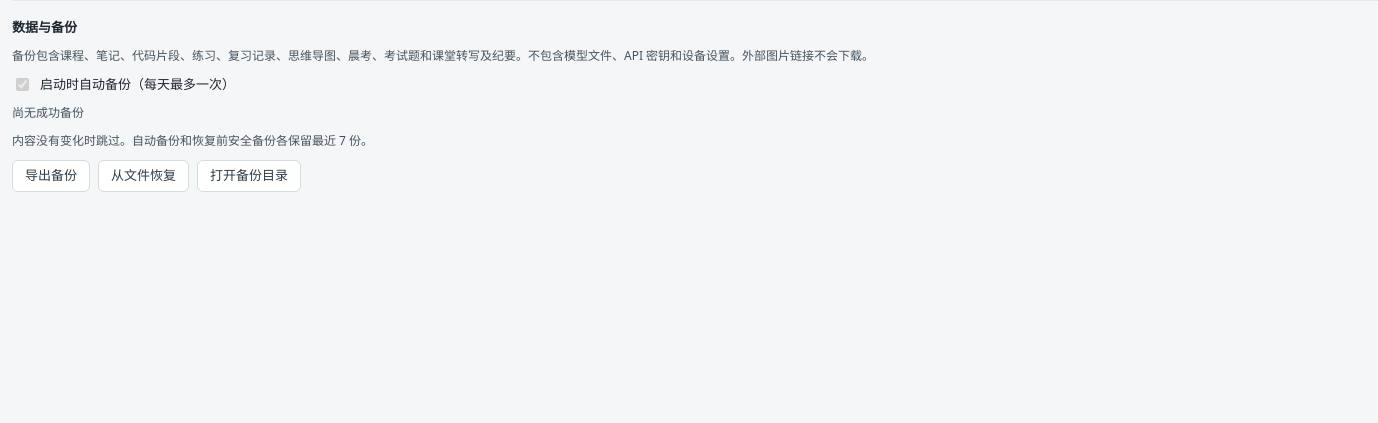
Scenario: previews before restoring and preserves errors for retry
Expected: the text "尚无成功备份" is shown, [12,104,84,121]
Click the button "从文件恢复".
click(144, 176)  # box [98,160,189,192]
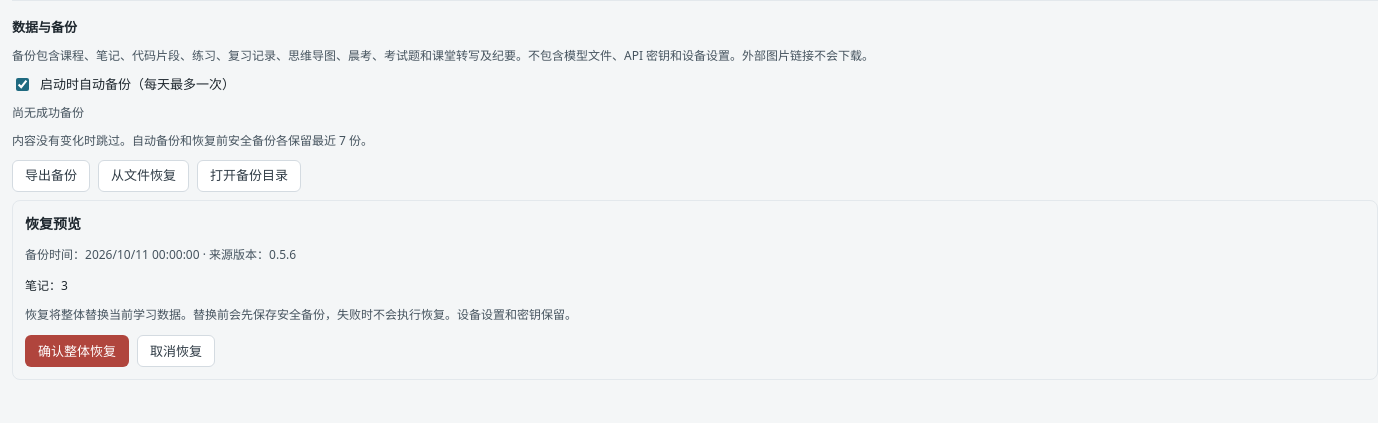
Result: the text "笔记：3" is shown at [25,276,68,295]
Click the button "确认整体恢复".
click(77, 351)  # box [25,335,129,367]
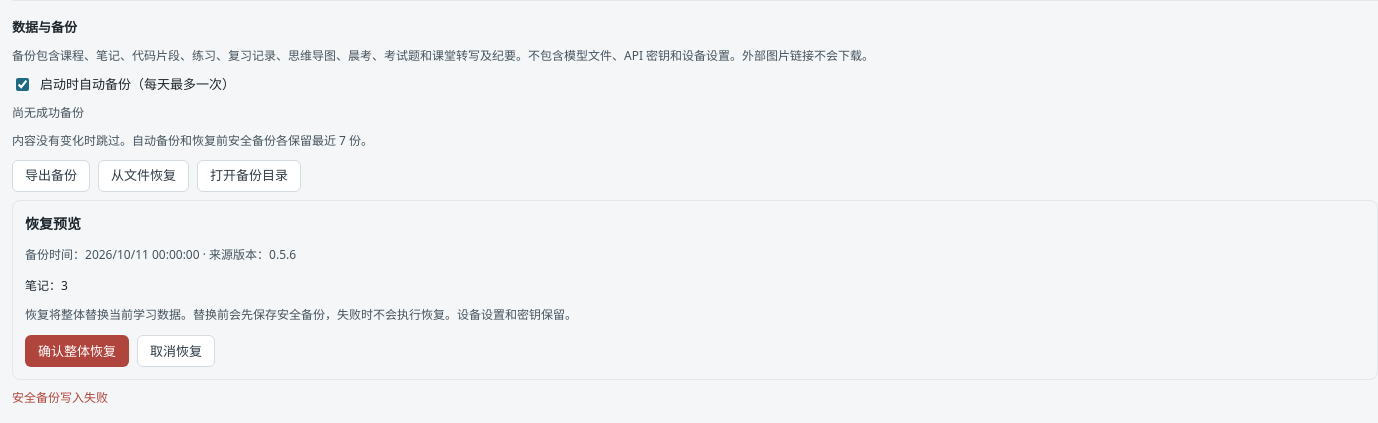
Result: the message reads "安全备份写入失败" at [12,389,108,406]
